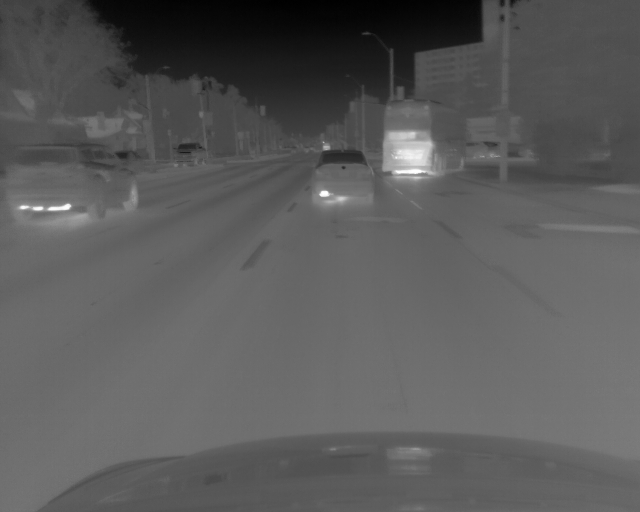car: (1, 142, 139, 223), (381, 99, 468, 180), (312, 149, 374, 208), (174, 142, 207, 168)
